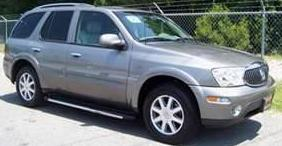front_view: (202, 59, 277, 124)
headlight: (207, 64, 248, 89)
side_glass: (10, 11, 131, 54)
